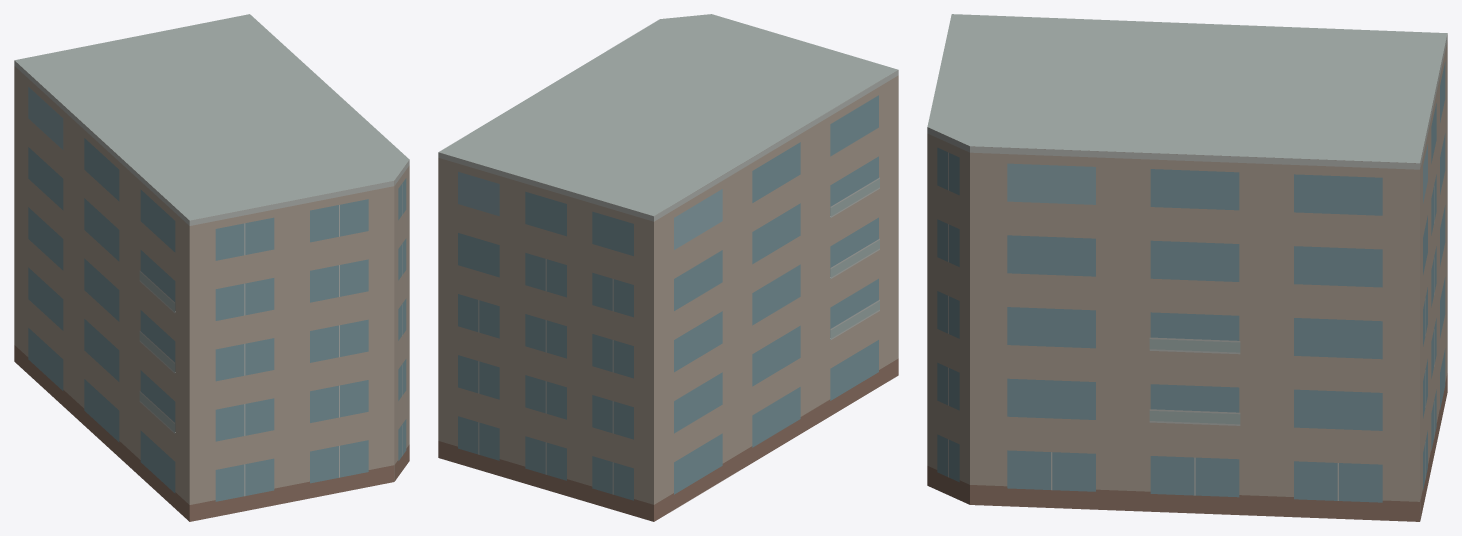
Rendered from survey-upis-32764970.glb.
The picture shows the model from 3 angles, left to right: view 1: azimuth 30°, elevation 25°; view 2: azimuth 150°, elevation 25°; view 3: azimuth 270°, elevation 25°; orthographic projection. The views are drawn at different scales.
Visible parts, largest first — view 1: survey-upis-32764970.tmp; view 2: survey-upis-32764970.tmp; view 3: survey-upis-32764970.tmp.
Boxes of the visible parts, left/top/right/bottom form: survey-upis-32764970.tmp: left=14, top=14, right=409, bottom=521; survey-upis-32764970.tmp: left=438, top=14, right=898, bottom=521; survey-upis-32764970.tmp: left=927, top=14, right=1447, bottom=521.
Bounding box in the file's own units: 12.15 × 13.6 × 17.89.
